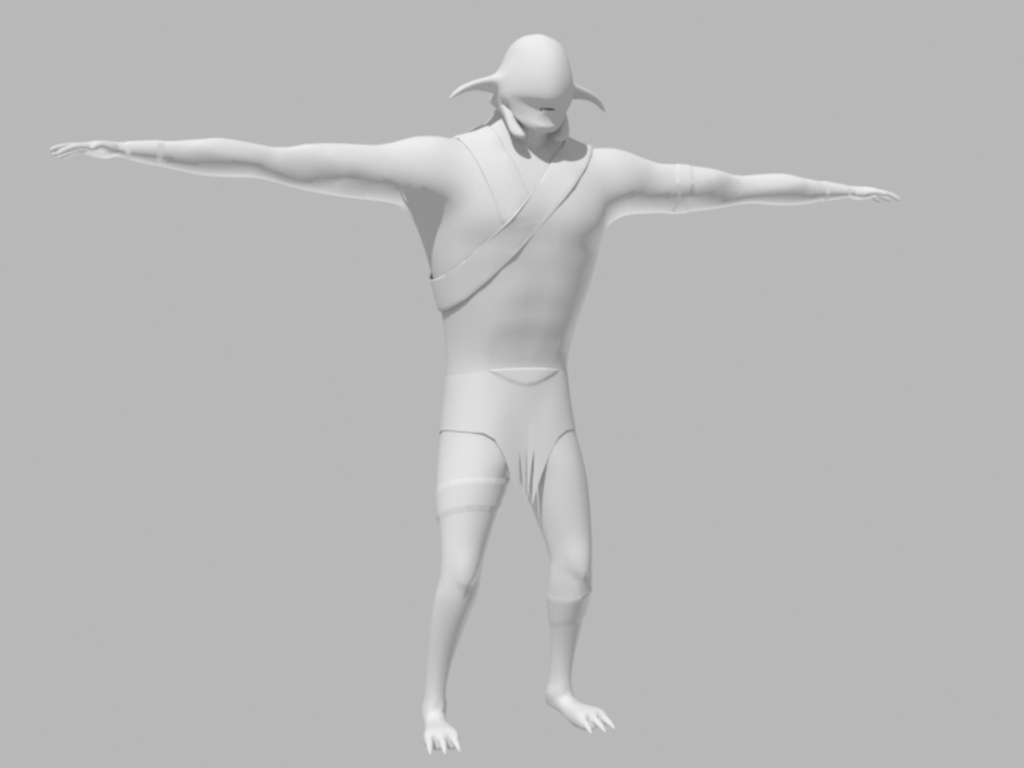Human_hand: (50, 140, 118, 159), (847, 183, 902, 204)
